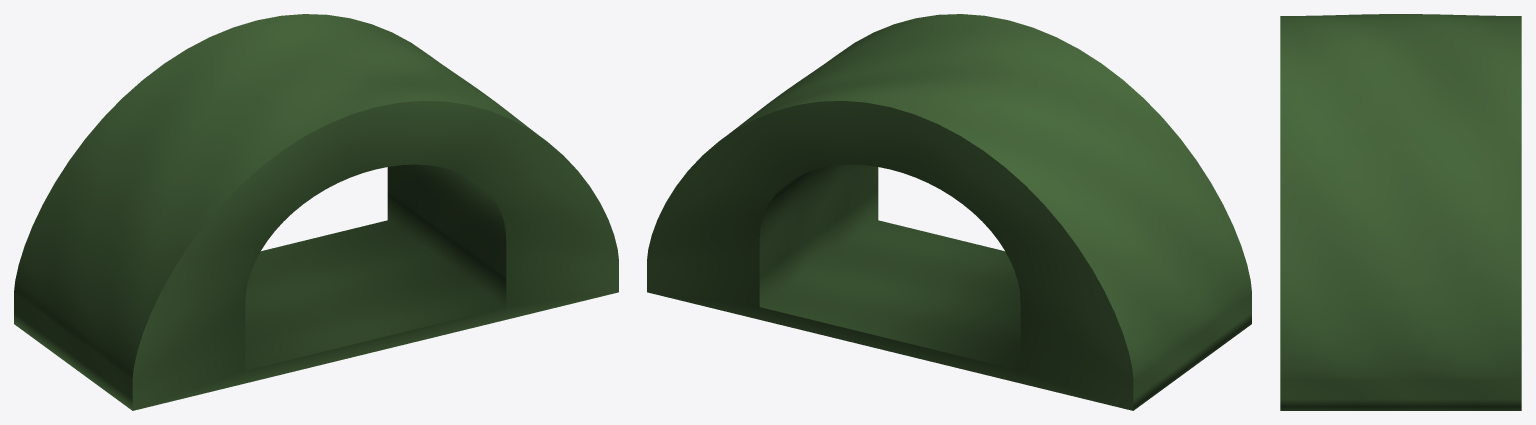
Rendered from straight_12m_terrain.glb.
3 renders of one model, left to right at view 1: azimuth 30°, elevation 25°; view 2: azimuth 150°, elevation 25°; view 3: azimuth 270°, elevation 25°, orthographic.
Visible parts, largest first — view 1: TerrainRoof.004; view 2: TerrainRoof.004; view 3: TerrainRoof.004.
Part boxes in pixels (x1,y1,x2,y2): TerrainRoof.004: [14, 14, 618, 410]; TerrainRoof.004: [647, 14, 1251, 410]; TerrainRoof.004: [1280, 14, 1521, 410].
Bounding box in the file's own units: 28.4 × 13.65 × 12.
